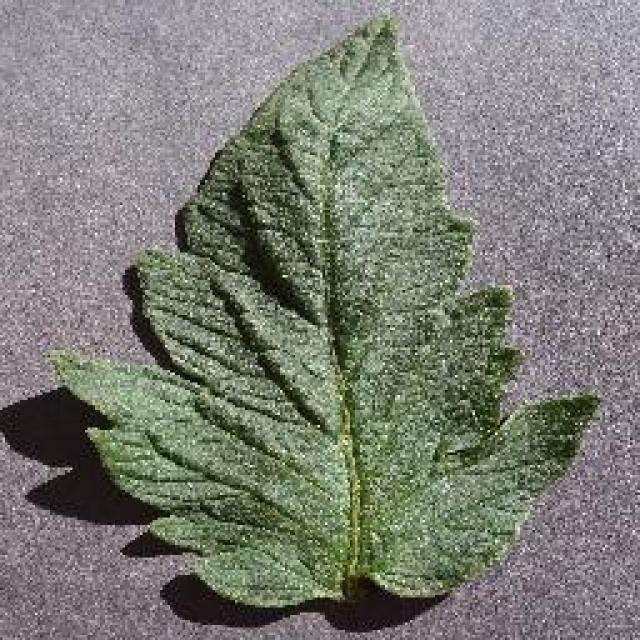healthy: (38, 20, 611, 611)
